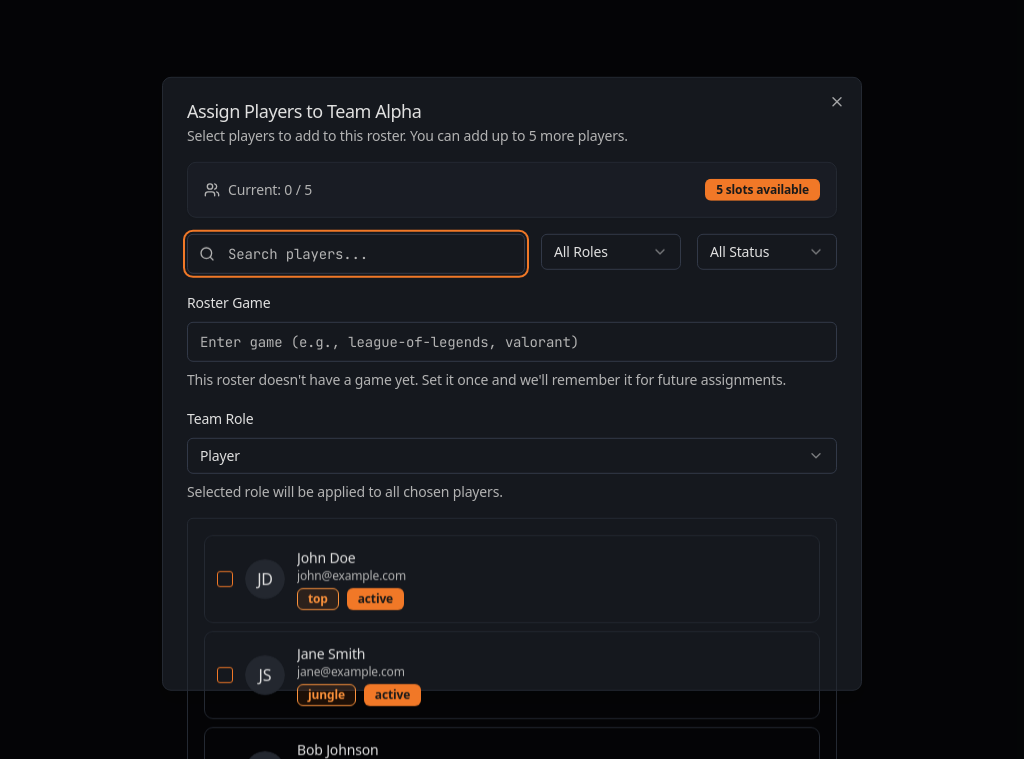
Test: PlayerAssignmentDialog › shows empty state when no players match filters
Step 1. Type "NonExistentPlayer" into the field with placeholder "Search players..." → (356, 254), box [187,234,525,274]
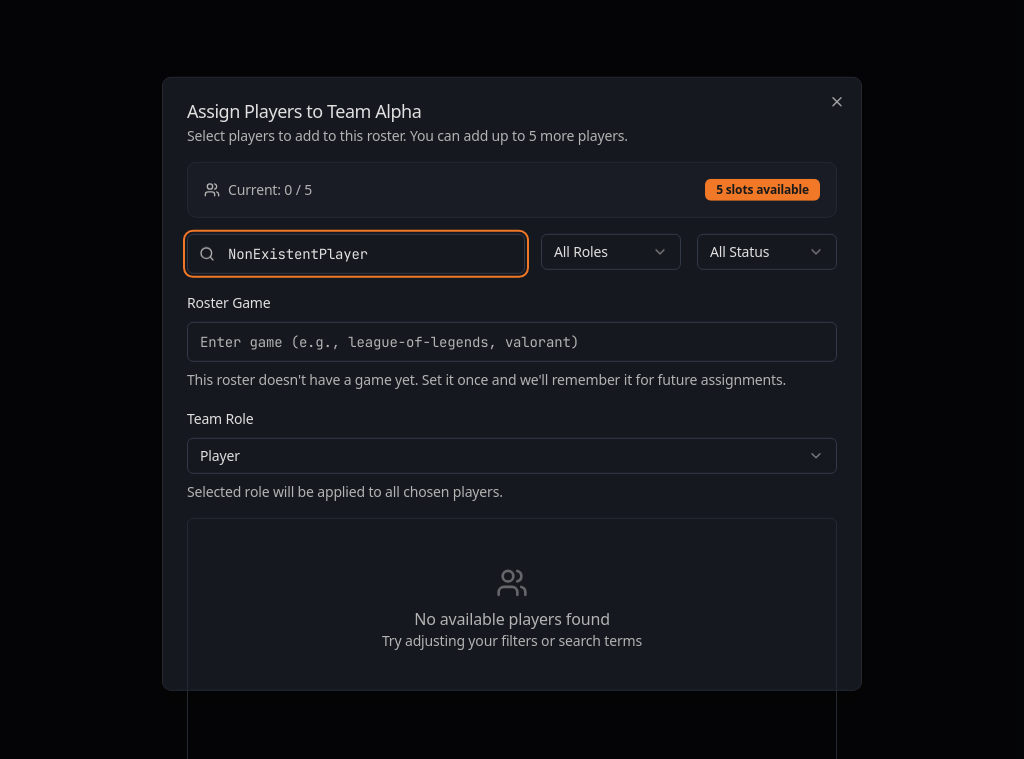
Now the text "No available players found" is shown, box [414,608,610,630]
Now the text "Try adjusting your filters or search terms" is shown, box [382,631,642,650]
